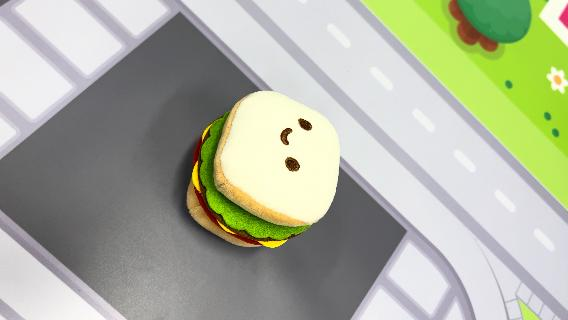sandwich: (185, 88, 343, 250)
